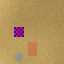person: (14, 52, 22, 61)
vehicle: (28, 42, 37, 56)
